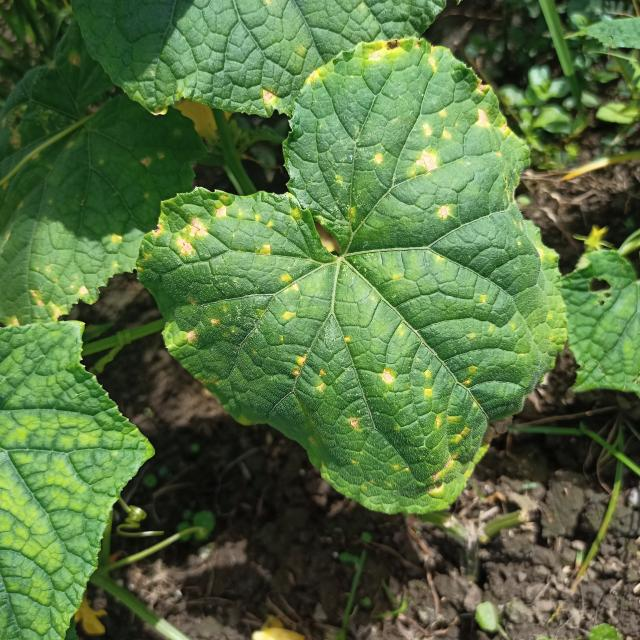disease_cucumber: (167, 36, 546, 509)
